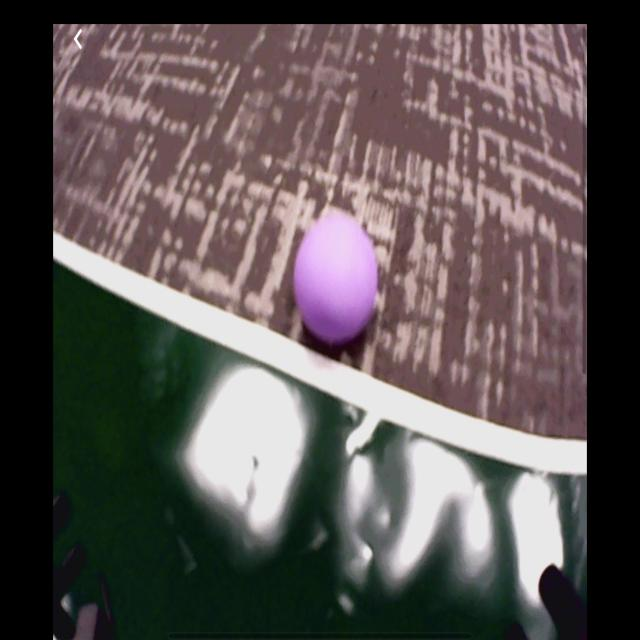ball: (294, 214, 382, 345)
